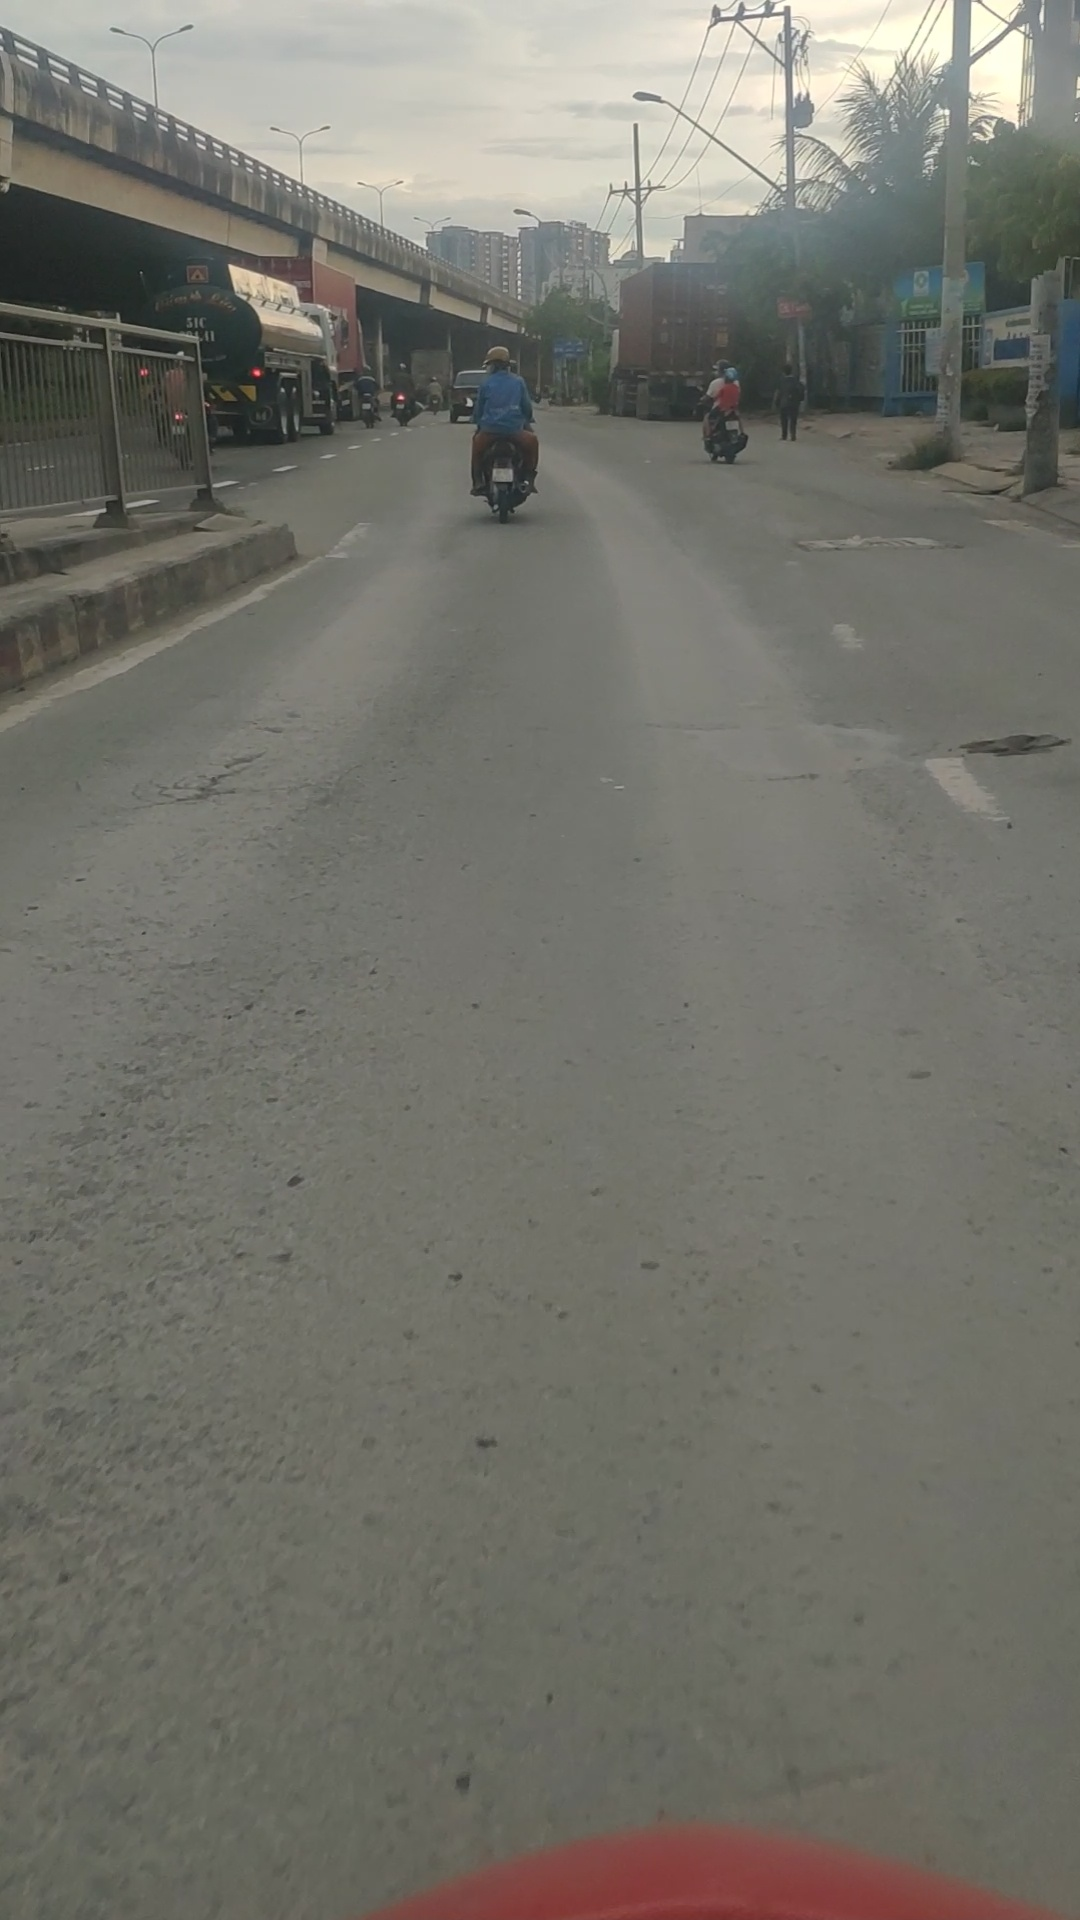hole: (128, 738, 274, 816)
